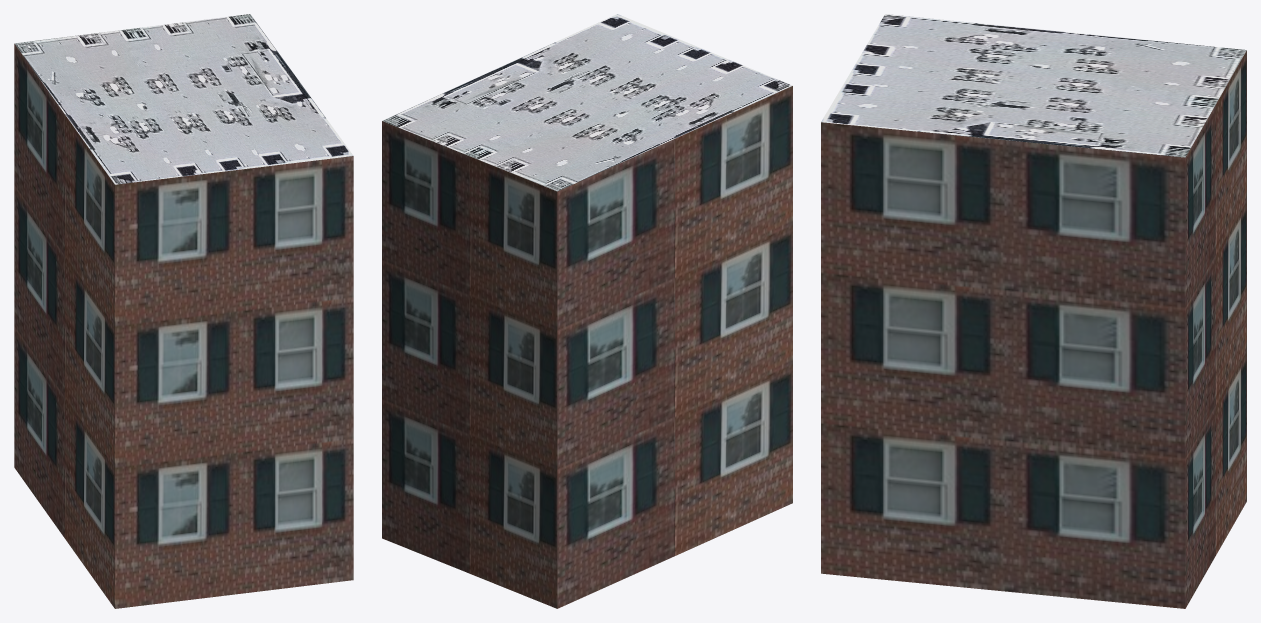
File: ResTex__2557.fbx
3 views of the same model, side by side, from view 1: azimuth 30°, elevation 25°; view 2: azimuth 150°, elevation 25°; view 3: azimuth 270°, elevation 25° (orthographic). The views are drawn at different scales.
Parts seen in each view (by area): view 1: CityEngineMaterial_14_m, CityEngineMaterial_8_m; view 2: CityEngineMaterial_14_m, CityEngineMaterial_8_m; view 3: CityEngineMaterial_14_m, CityEngineMaterial_8_m.
Boxes of the visible parts, x1,y1,x2,y2 form: CityEngineMaterial_14_m: (14,44,353,608); CityEngineMaterial_8_m: (14,14,353,184); CityEngineMaterial_14_m: (382,86,792,608); CityEngineMaterial_8_m: (382,14,792,191); CityEngineMaterial_14_m: (821,50,1246,608); CityEngineMaterial_8_m: (821,14,1246,157).
Bounding box in the file's own units: 6.14 × 9 × 7.7.
2 materials, 2 textured.
